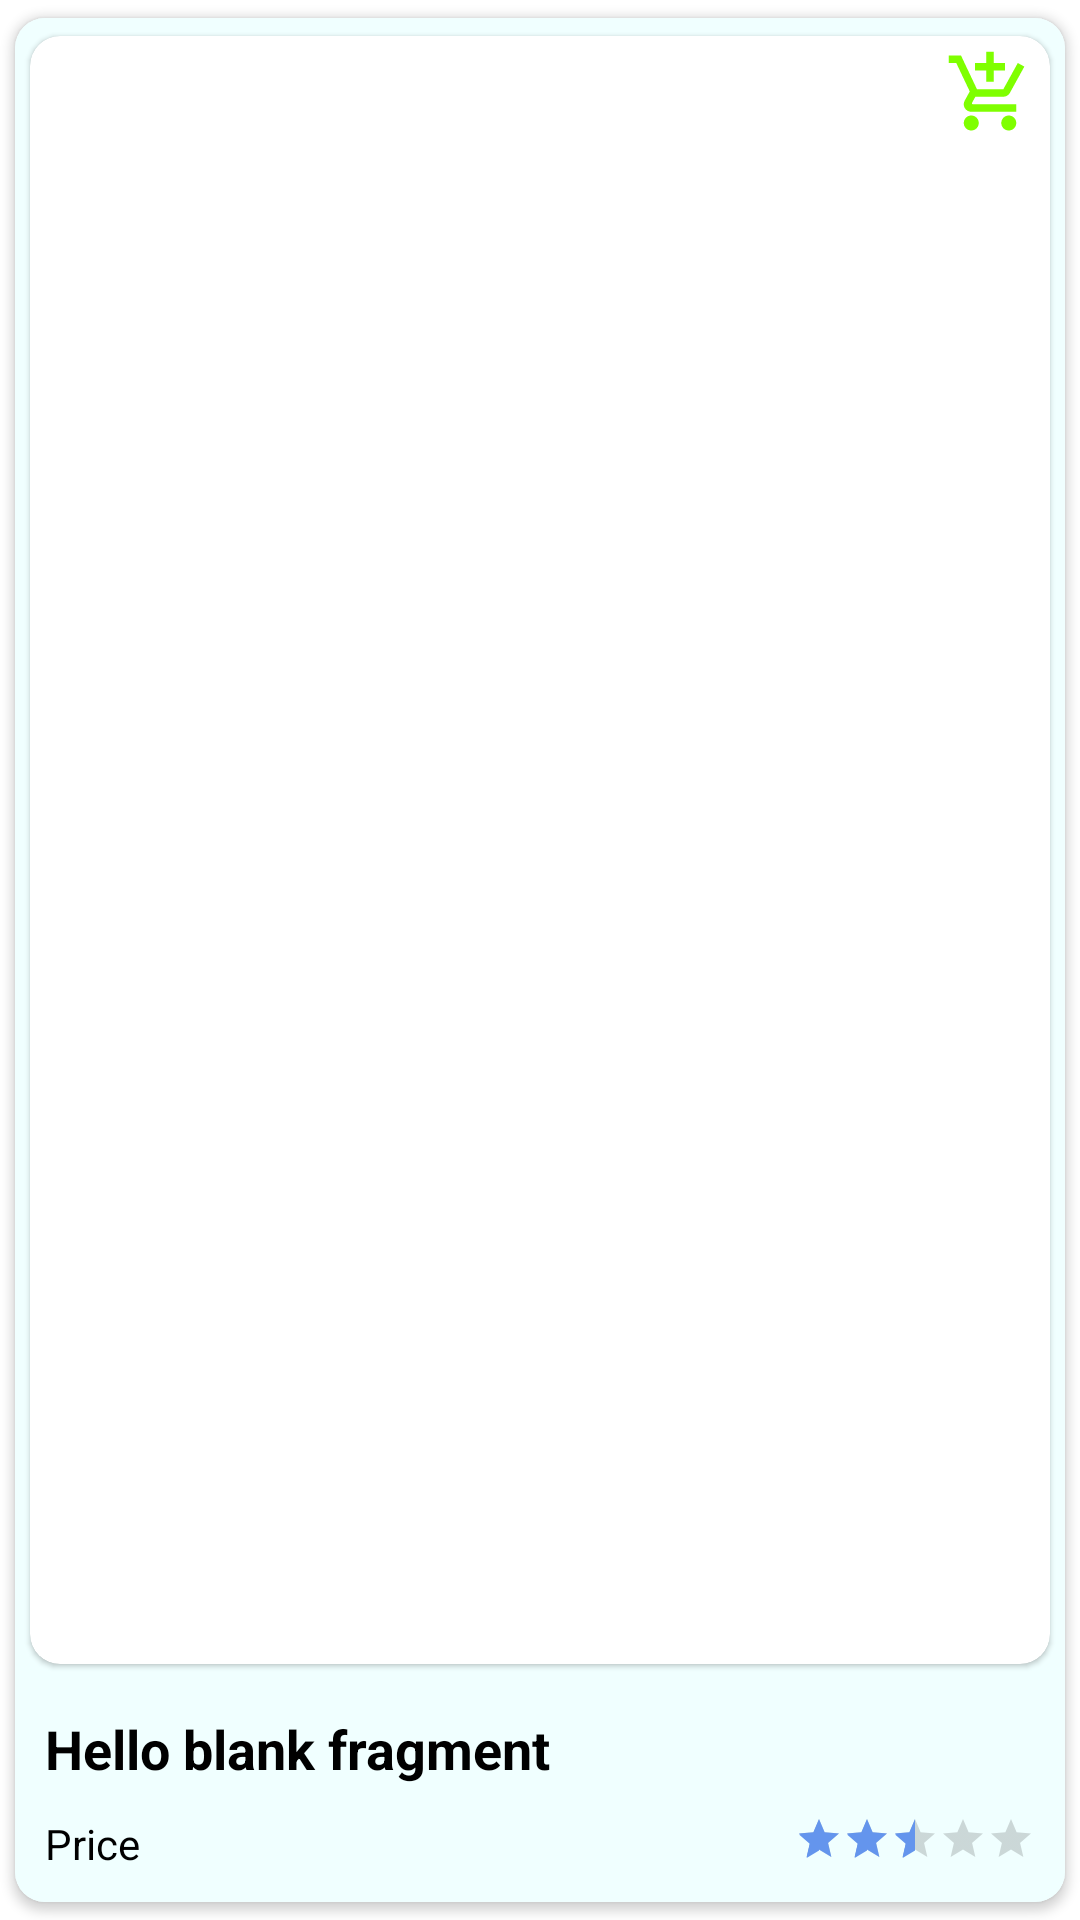

Where icons sit on this 1080x1920 app screen, as (x1, y1, x2, y2):
add shopping cart: (948, 51, 1025, 131)
